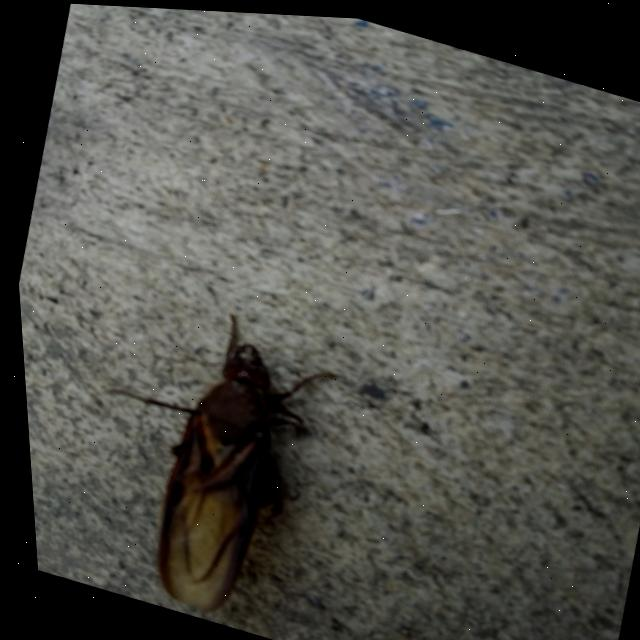Alive-Female-Alate: (50, 278, 357, 639)
